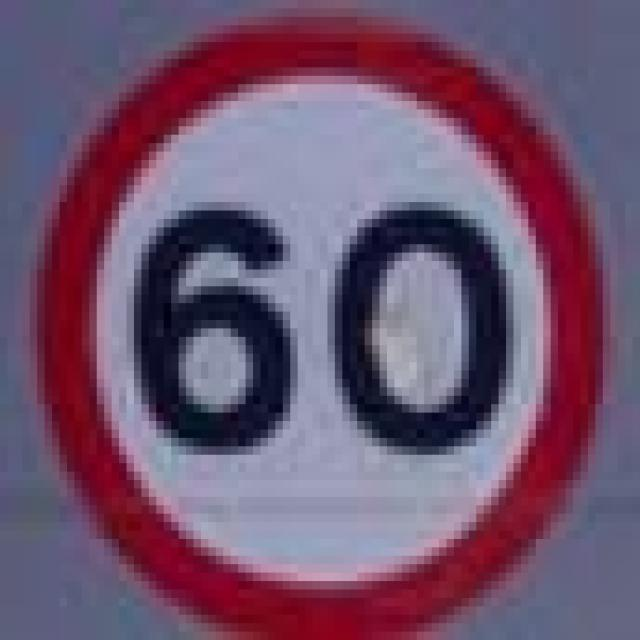Ograniczenie predkosci do 60: (22, 9, 603, 632)
